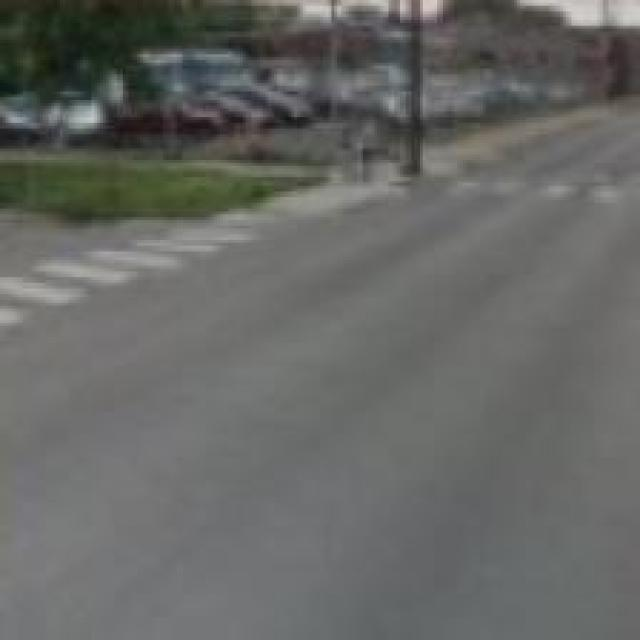walk-crossing: (0, 203, 274, 364), (445, 173, 640, 199)
